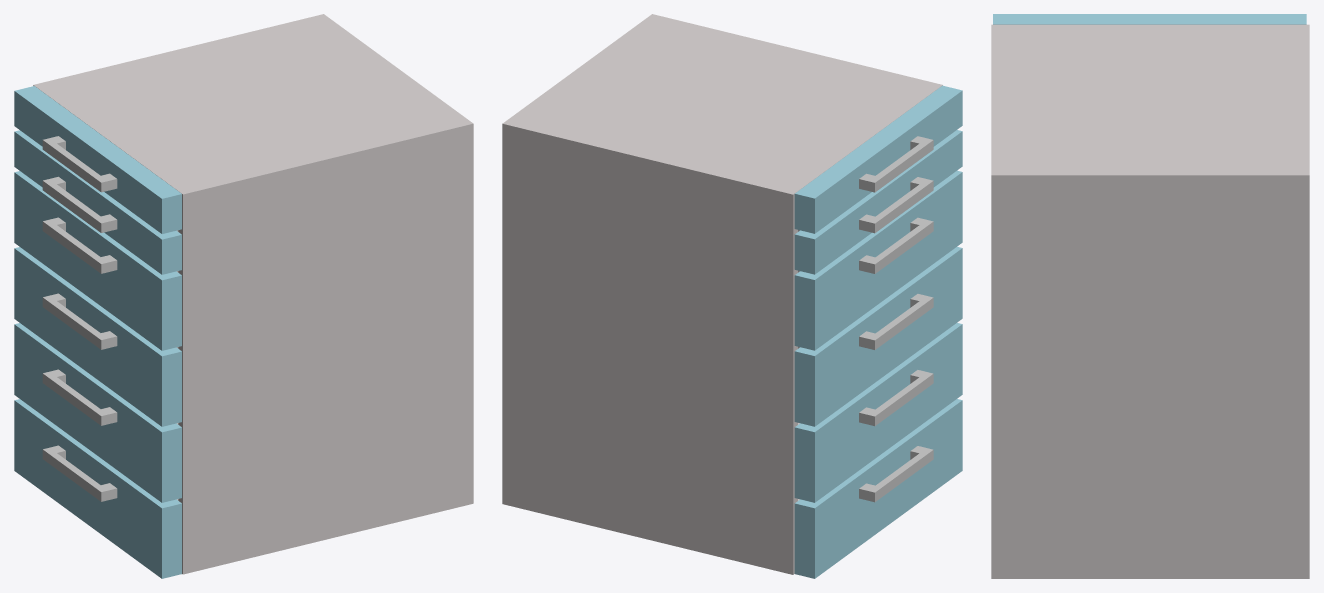
The model's file is CounterWDrawers.fbx.
The picture shows the model from 3 angles, left to right: view 1: azimuth 30°, elevation 25°; view 2: azimuth 150°, elevation 25°; view 3: azimuth 270°, elevation 25°; orthographic projection. The views are drawn at different scales.
Visible parts, largest first — view 1: CounterType5, CounterType5DOORBIG.003, CounterType5DOORBIG.001, CounterType5DOORBIG.002, CounterType5DOORBIG, CounterType5DOORSMALL, CounterType5DOORSMALL.001, CounterType5DOORSMALLHandle, CounterType5DOORBIGHandle, CounterType5DOORBIGHandle.001, CounterType5DOORBIGHandle.002, CounterType5DOORBIGHandle.003 (+1 smaller); view 2: CounterType5, CounterType5DOORBIG.001, CounterType5DOORBIG.003, CounterType5DOORBIG.002, CounterType5DOORBIG, CounterType5DOORSMALL, CounterType5DOORSMALL.001, CounterType5DOORSMALLHandle, CounterType5DOORBIGHandle, CounterType5DOORBIGHandle.001, CounterType5DOORSMALLHandle.001, CounterType5DOORBIGHandle.002 (+1 smaller); view 3: CounterType5, CounterType5DOORSMALL.
Part boxes in pixels (x1,y1,x2,y2): CounterType5: (33,14,473,574); CounterType5DOORBIG.003: (14,399,181,578); CounterType5DOORBIG.001: (14,247,181,426); CounterType5DOORBIG.002: (14,323,181,502); CounterType5DOORBIG: (14,171,181,350); CounterType5DOORSMALL: (14,86,181,233); CounterType5DOORSMALL.001: (14,130,181,274); CounterType5DOORSMALLHandle: (42,136,117,192); CounterType5DOORBIGHandle: (42,217,117,273); CounterType5DOORBIGHandle.001: (42,293,117,349); CounterType5DOORBIGHandle.002: (42,369,117,425); CounterType5DOORBIGHandle.003: (42,445,117,501); CounterType5: (502,14,942,574); CounterType5DOORBIG.001: (794,246,962,426); CounterType5DOORBIG.003: (794,399,962,578); CounterType5DOORBIG.002: (794,323,962,502); CounterType5DOORBIG: (794,170,962,350); CounterType5DOORSMALL: (794,85,962,233); CounterType5DOORSMALL.001: (794,130,962,274); CounterType5DOORSMALLHandle: (859,136,933,192); CounterType5DOORBIGHandle: (859,217,933,273); CounterType5DOORBIGHandle.001: (859,294,933,349); CounterType5DOORSMALLHandle.001: (859,177,933,233); CounterType5DOORBIGHandle.002: (859,370,933,426); CounterType5: (991,24,1309,578); CounterType5DOORSMALL: (993,14,1306,24).
Size of the model in its own units: 62.97 by 70 by 50.
